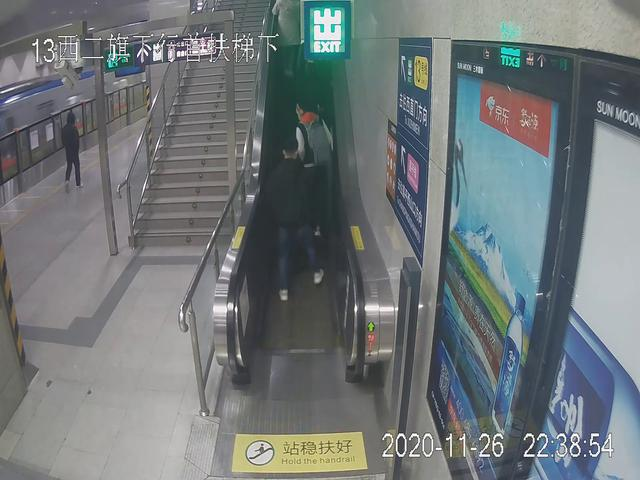person: (288, 98, 346, 245), (269, 140, 321, 298), (264, 1, 300, 80), (62, 109, 84, 195)
